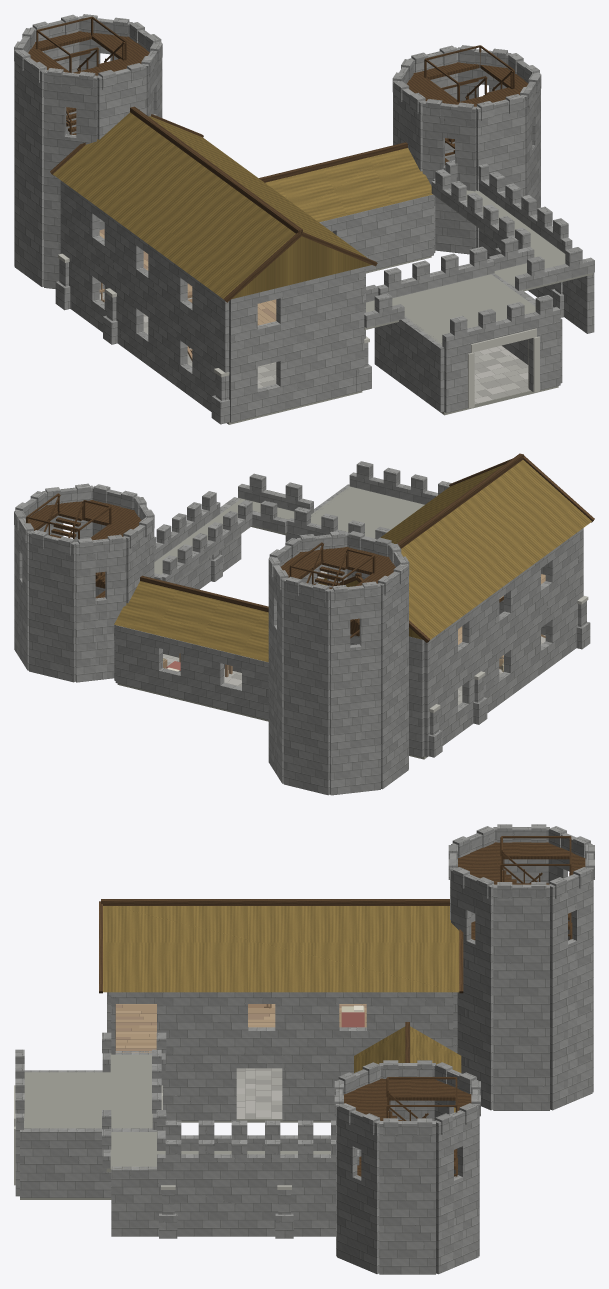
The model's file is keep.glb.
3 renders of one model, top to bottom at view 1: azimuth 30°, elevation 25°; view 2: azimuth 150°, elevation 25°; view 3: azimuth 270°, elevation 25°, orthographic. The views are drawn at different scales.
Parts seen in each view (by area): view 1: Keep_Shell_2_111, Keep_Roof_3_2, Keep_GroundFront_2_36, Keep_Upper_Wallwalk_1_35, Keep_Roof_3_48, Keep_Upper_Floor_2_4.001, Keep_Roof_3_6, Keep_Floor_Flags, Keep_Upper_Tower_Eastturret_Level2_Floor_1_16, Keep_Upper_Tower_Highwatch_Level3_Floor_1_16, Keep_GroundFront_2_6, Keep_Floor_1_5 (+2 smaller); view 2: Keep_Shell_2_111, Keep_Roof_3_2, Keep_Upper_Wallwalk_1_35, Keep_Roof_3_48, Keep_Upper_Floor_2_4.001, Keep_Roof_3_6, Keep_Upper_Tower_Eastturret_Level2_Floor_1_16, Keep_Upper_Tower_Highwatch_Level3_Floor_1_16, Keep_Tower_Eastturret_Level2_Stair_1_34, Keep_Tower_Highwatch_Level3_Stair_1_34, Keep_Floor_Flags; view 3: Keep_Shell_2_111, Keep_Roof_3_2, Keep_Upper_Shell_1_17, Keep_Roof_3_48, Keep_Upper_Wallwalk_1_35, Keep_GroundFront_2_36, Keep_Upper_Floor_2_4.001, Keep_Roof_3_6, Keep_Upper_Tower_Eastturret_Level2_Floor_1_16, Keep_Upper_Tower_Highwatch_Level3_Floor_1_16, Keep_Upper_Floor_Boards, Keep_Floor_Flags.
Part boxes in pixels (bbox=[...]): Keep_Shell_2_111: bbox=[14, 31, 594, 424]; Keep_Roof_3_2: bbox=[53, 112, 432, 299]; Keep_GroundFront_2_36: bbox=[229, 194, 560, 422]; Keep_Upper_Wallwalk_1_35: bbox=[364, 160, 594, 349]; Keep_Roof_3_48: bbox=[14, 14, 541, 121]; Keep_Upper_Floor_2_4.001: bbox=[364, 190, 592, 345]; Keep_Roof_3_6: bbox=[50, 106, 407, 302]; Keep_Floor_Flags: bbox=[99, 293, 530, 404]; Keep_Upper_Tower_Eastturret_Level2_Floor_1_16: bbox=[407, 45, 528, 106]; Keep_Upper_Tower_Highwatch_Level3_Floor_1_16: bbox=[28, 16, 149, 75]; Keep_GroundFront_2_6: bbox=[468, 328, 539, 408]; Keep_Floor_1_5: bbox=[227, 256, 558, 424]; Keep_Shell_2_111: bbox=[14, 484, 590, 795]; Keep_Roof_3_2: bbox=[114, 460, 591, 662]; Keep_Upper_Wallwalk_1_35: bbox=[154, 461, 451, 583]; Keep_Roof_3_48: bbox=[14, 483, 409, 602]; Keep_Upper_Floor_2_4.001: bbox=[154, 486, 424, 582]; Keep_Roof_3_6: bbox=[140, 453, 594, 642]; Keep_Upper_Tower_Eastturret_Level2_Floor_1_16: bbox=[26, 493, 141, 540]; Keep_Upper_Tower_Highwatch_Level3_Floor_1_16: bbox=[281, 542, 395, 586]; Keep_Tower_Eastturret_Level2_Stair_1_34: bbox=[43, 494, 105, 585]; Keep_Tower_Highwatch_Level3_Stair_1_34: bbox=[306, 543, 359, 633]; Keep_Floor_Flags: bbox=[163, 571, 545, 705]; Keep_Shell_2_111: bbox=[20, 842, 593, 1274]; Keep_Roof_3_2: bbox=[103, 906, 461, 1112]; Keep_Upper_Shell_1_17: bbox=[111, 992, 453, 1054]; Keep_Roof_3_48: bbox=[334, 824, 594, 1136]; Keep_Upper_Wallwalk_1_35: bbox=[15, 1032, 359, 1170]; Keep_GroundFront_2_36: bbox=[15, 992, 355, 1196]; Keep_Upper_Floor_2_4.001: bbox=[24, 1053, 330, 1172]; Keep_Roof_3_6: bbox=[99, 899, 463, 1062]; Keep_Upper_Tower_Eastturret_Level2_Floor_1_16: bbox=[344, 1077, 471, 1120]; Keep_Upper_Tower_Highwatch_Level3_Floor_1_16: bbox=[458, 836, 585, 884]; Keep_Upper_Floor_Boards: bbox=[115, 1004, 366, 1052]; Keep_Floor_Flags: bbox=[236, 1068, 282, 1118].
Size of the model in its own units: 23.71 by 11.32 by 25.48.
Materials: 15 (4 with a texture image).
